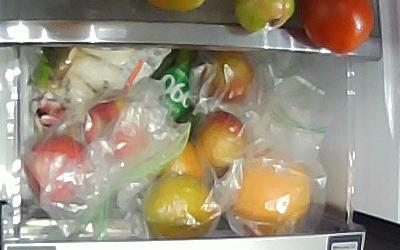apple_vinyl: (21, 135, 93, 204), (84, 97, 147, 160)
grapefruit_vinyl: (232, 157, 311, 237)
persimmon_vinyl: (141, 179, 216, 241), (160, 139, 204, 180)
prune_vinyl: (192, 110, 248, 168), (201, 51, 256, 105)
